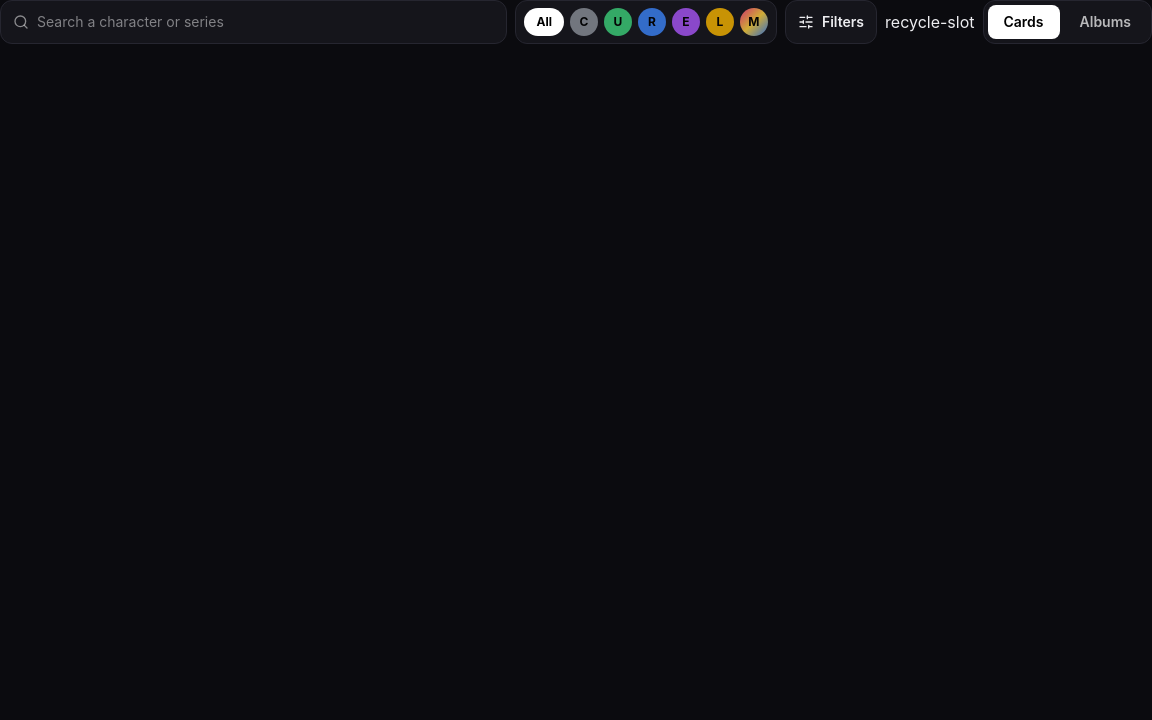
CollectionToolbar › lists My wishes with its count and series A to Z
Click the button "Filters": click(831, 22) top-left (785, 0), bottom-right (877, 44)
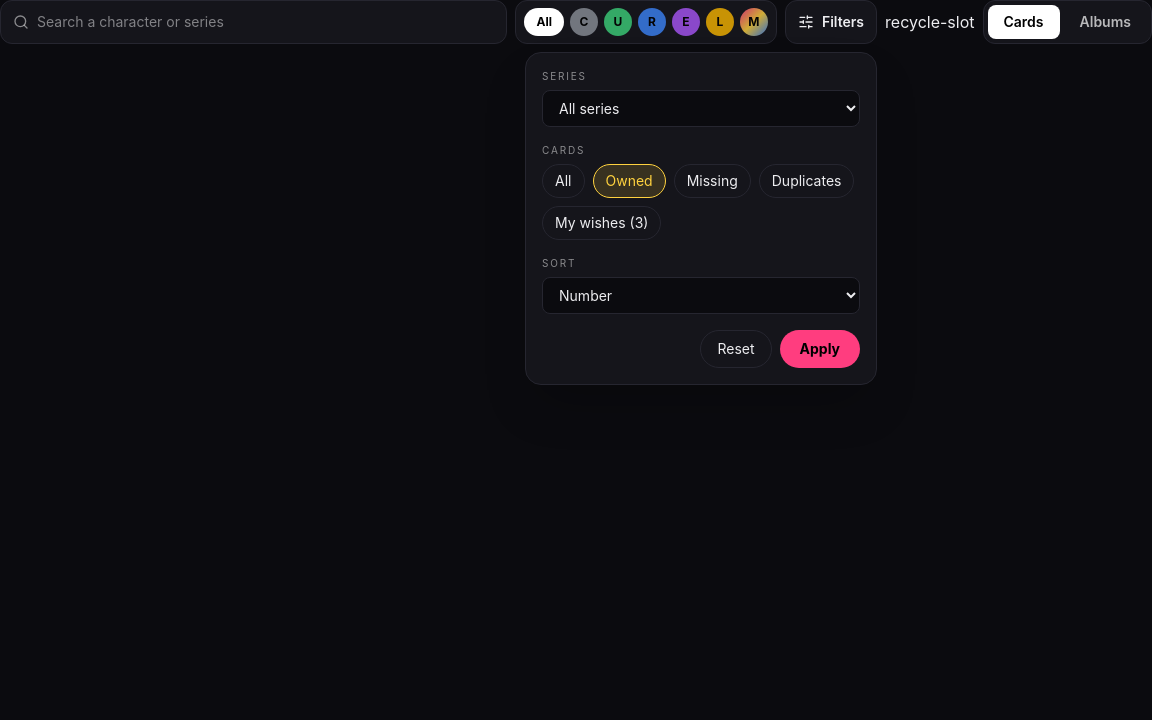
Check: the radio button labelled "My wishes (3)" is shown, box top-left (542, 206), bottom-right (661, 240)
